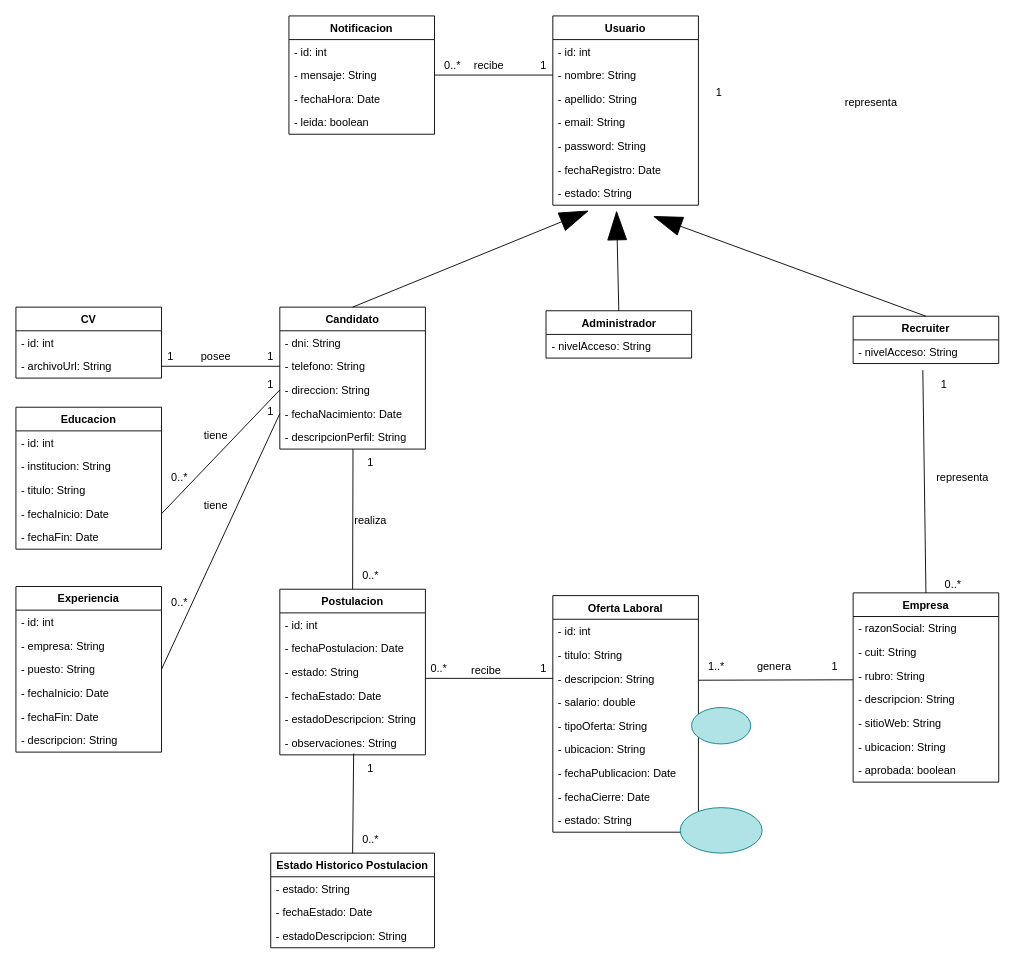
This 1015x966 diagram has some shape labels left out. Each missing label, with the centre of its shape:
"Abierta Cerrada Pausada" belongs at (x=720, y=830).
"Pasantía Trabajo" belongs at (x=721, y=725).
